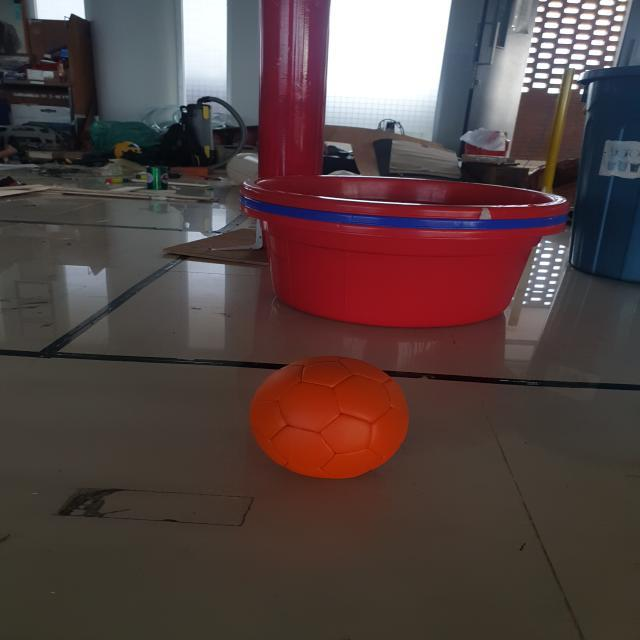bola: (244, 351, 414, 482)
